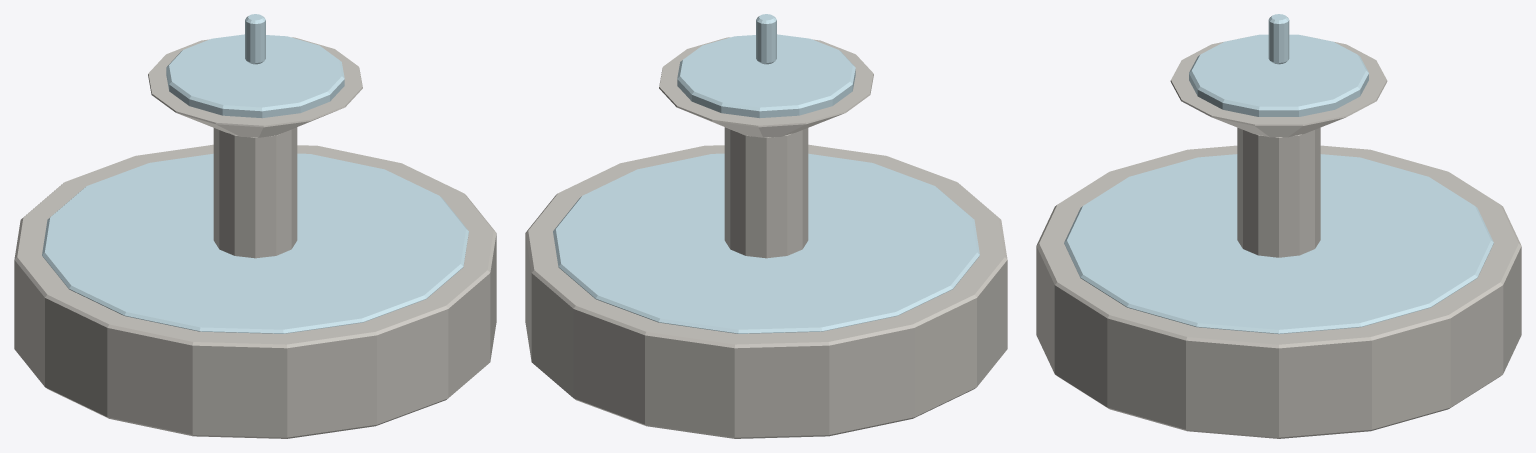
Rendered from SM_Fountain.fbx.
3 views of the same model, side by side, from view 1: azimuth 30°, elevation 25°; view 2: azimuth 150°, elevation 25°; view 3: azimuth 270°, elevation 25° (orthographic).
Visible parts, largest first — view 1: Fountain; view 2: Fountain; view 3: Fountain.
Part boxes in pixels (x1,y1,x2,y2): Fountain: [14, 14, 496, 438]; Fountain: [525, 14, 1007, 438]; Fountain: [1036, 14, 1521, 438].
Bounding box in the file's own units: 140 × 102 × 140.
